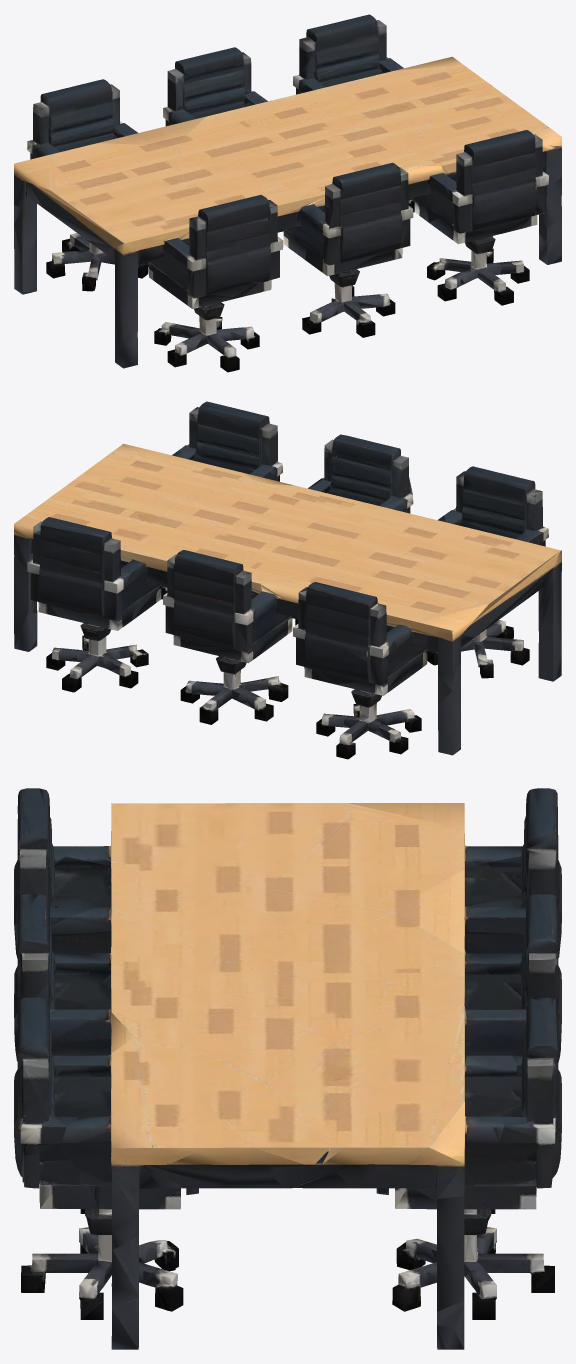
File: meeting_table_chairs.glb
3 renders of one model, top to bottom at view 1: azimuth 30°, elevation 25°; view 2: azimuth 150°, elevation 25°; view 3: azimuth 270°, elevation 25°, orthographic. The views are drawn at different scales.
Bounding box in the file's own units: 2 × 0.7114 × 1.34.
1 material, 1 textured.
